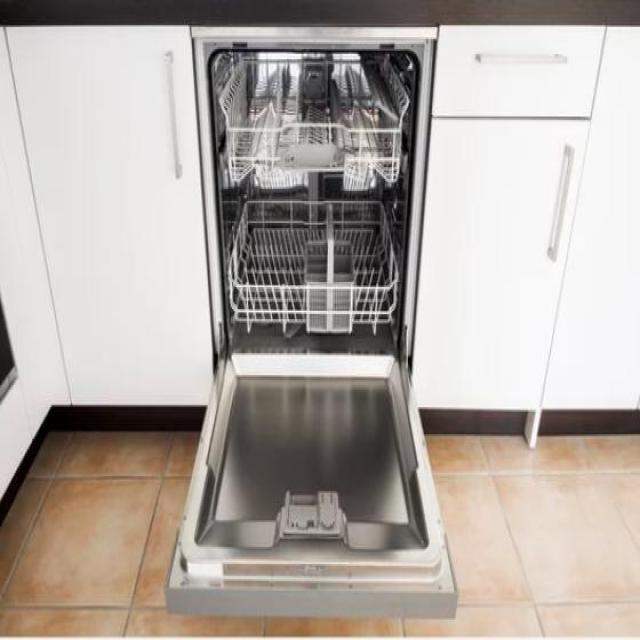dishwasher: (162, 37, 461, 618)
